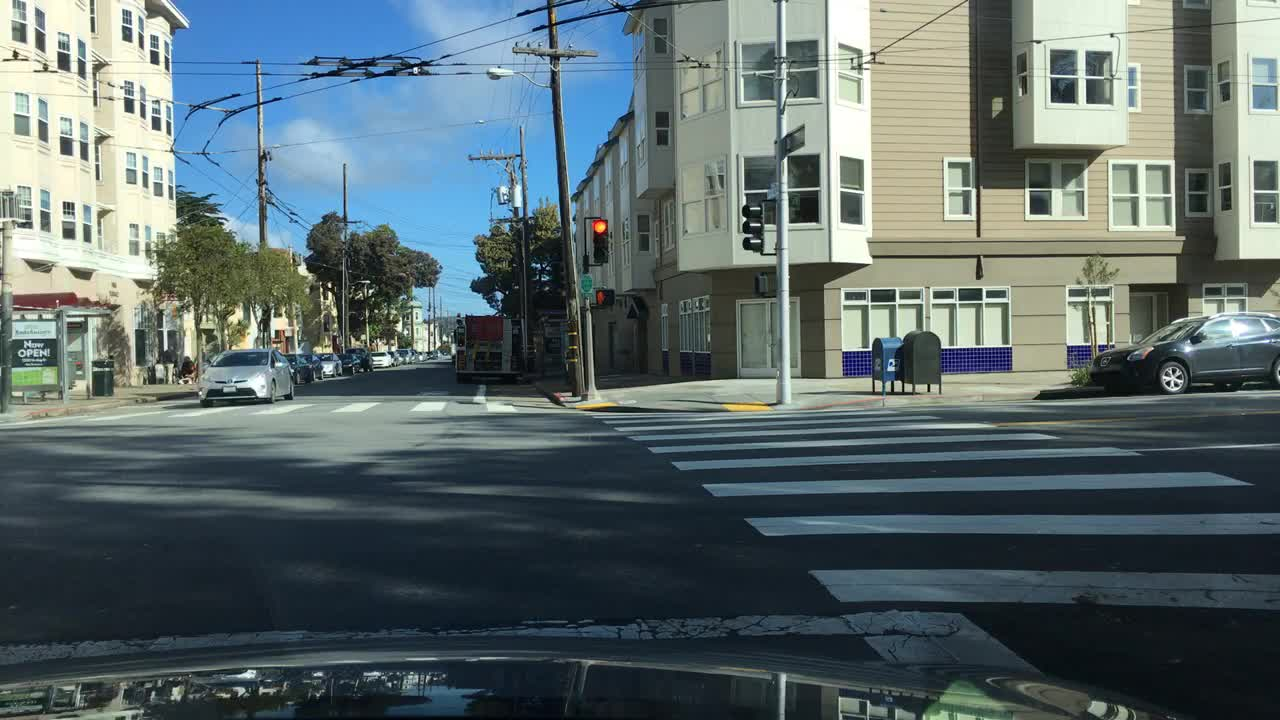car: (1090, 315, 1278, 394), (197, 349, 295, 404), (284, 354, 313, 384), (320, 353, 344, 377), (350, 348, 366, 373), (370, 351, 391, 370), (311, 353, 324, 379), (402, 349, 413, 363), (391, 352, 402, 363), (418, 352, 429, 360)
person: (180, 356, 194, 378)
traffic light: (742, 205, 761, 249), (593, 218, 611, 264), (594, 290, 614, 306), (754, 273, 766, 295)
traffic sign: (780, 126, 804, 156), (581, 276, 593, 293)
truck: (452, 312, 525, 383)
